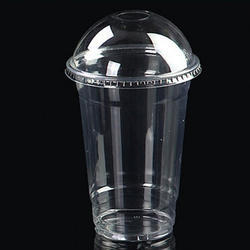plastic: (63, 9, 202, 244)
